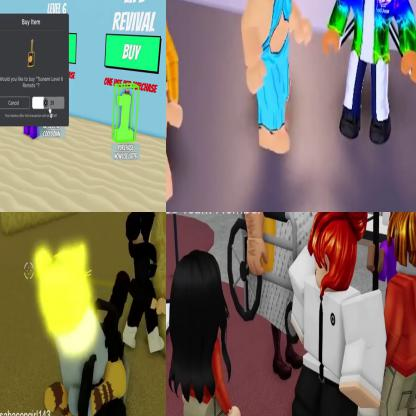Roblox-Avatar: (289, 213, 388, 416), (322, 1, 416, 146), (169, 249, 243, 416), (242, 1, 314, 156), (377, 213, 416, 416), (124, 213, 166, 354), (167, 1, 184, 213)
